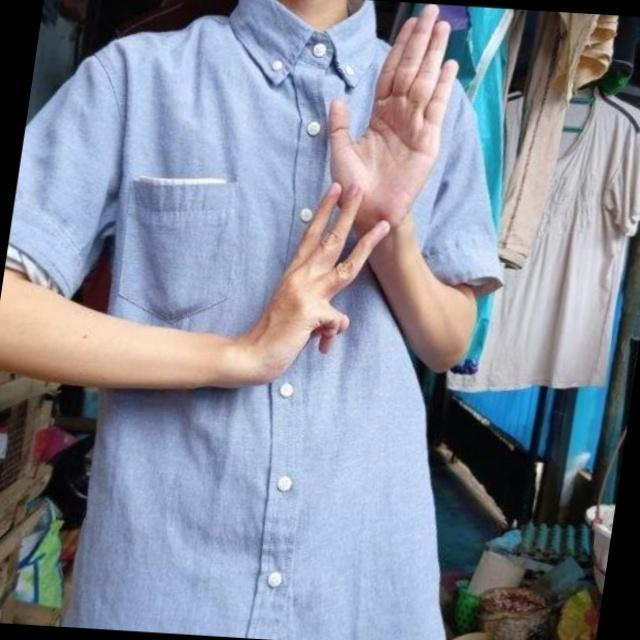M: (294, 6, 461, 292)
